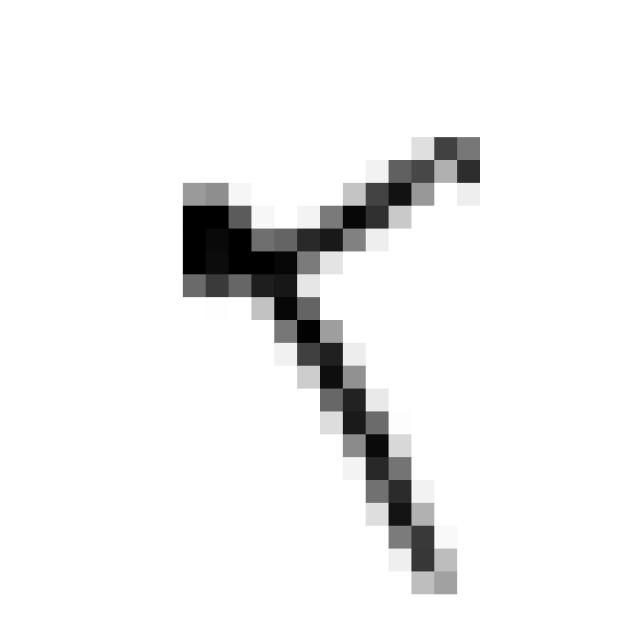3 -three-: (164, 107, 495, 604)
